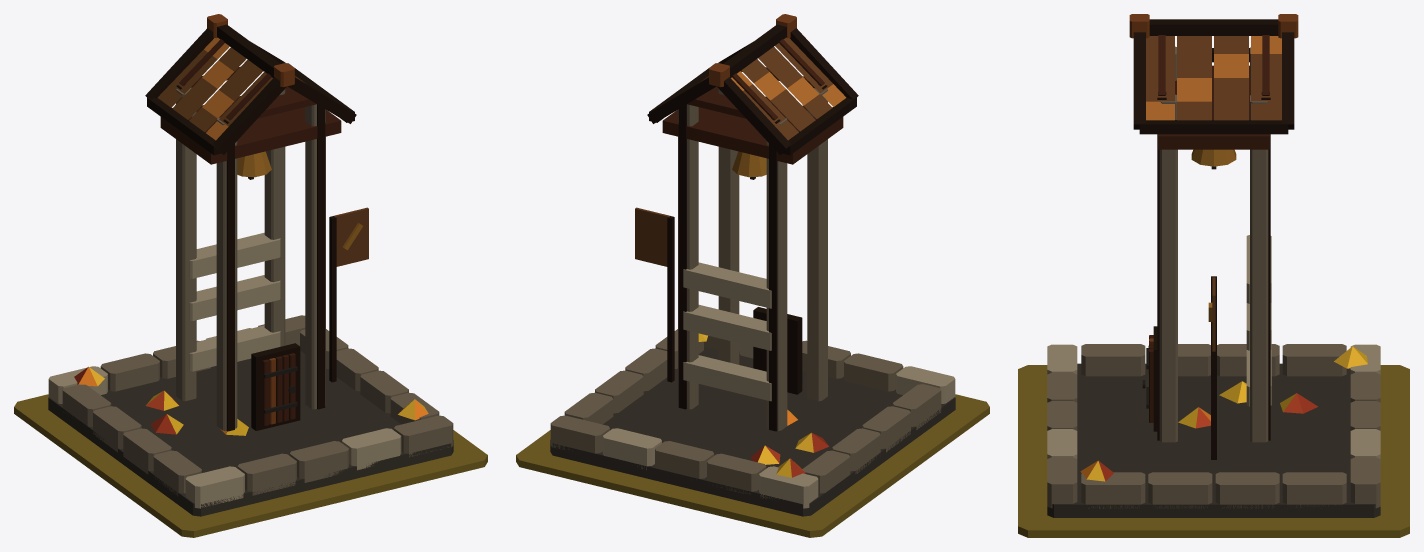
File: bell-tower_t5.glb
The picture shows the model from 3 angles, left to right: view 1: azimuth 30°, elevation 25°; view 2: azimuth 150°, elevation 25°; view 3: azimuth 270°, elevation 25°; orthographic projection. The views are drawn at different scales.
Parts seen in each view (by area): view 1: MMR | bell-tower | T05 Architecture.001, MMR | bell-tower | Tier 05 Ground.001, MMR | bell-tower | T05 Autumn Dressing.001, MMR | bell-tower | T05 Banner Flag 1.001, MMR | bell-tower | T05 Bell.001; view 2: MMR | bell-tower | T05 Architecture.001, MMR | bell-tower | Tier 05 Ground.001, MMR | bell-tower | T05 Banner Flag 1.001, MMR | bell-tower | T05 Autumn Dressing.001, MMR | bell-tower | T05 Bell.001; view 3: MMR | bell-tower | T05 Architecture.001, MMR | bell-tower | Tier 05 Ground.001, MMR | bell-tower | T05 Autumn Dressing.001, MMR | bell-tower | T05 Bell.001.
Part boxes in pixels (x1,y1,x2,y2): MMR | bell-tower | T05 Architecture.001: (48,14,453,516); MMR | bell-tower | Tier 05 Ground.001: (14,394,487,537); MMR | bell-tower | T05 Autumn Dressing.001: (74,366,428,435); MMR | bell-tower | T05 Banner Flag 1.001: (333,207,368,266); MMR | bell-tower | T05 Bell.001: (237,151,271,177); MMR | bell-tower | T05 Architecture.001: (550,14,955,516); MMR | bell-tower | Tier 05 Ground.001: (516,394,989,537); MMR | bell-tower | T05 Banner Flag 1.001: (635,207,670,266); MMR | bell-tower | T05 Autumn Dressing.001: (698,333,828,477); MMR | bell-tower | T05 Bell.001: (732,151,766,177); MMR | bell-tower | T05 Architecture.001: (1047,14,1380,517); MMR | bell-tower | Tier 05 Ground.001: (1018,365,1409,537); MMR | bell-tower | T05 Autumn Dressing.001: (1080,346,1367,481); MMR | bell-tower | T05 Bell.001: (1191,149,1236,166).
Size of the model in its own units: 2.35 by 2.9 by 2.35.
Materials: 1 (1 with a texture image).
